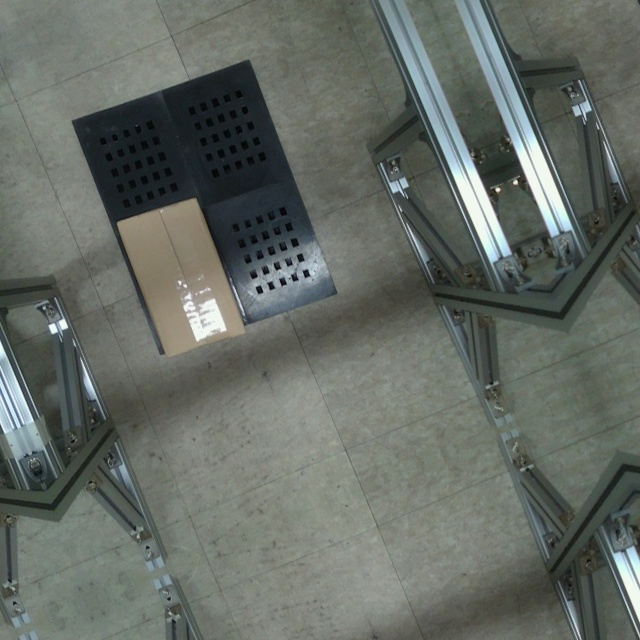box: (111, 190, 251, 364)
pallet: (57, 45, 351, 374)
